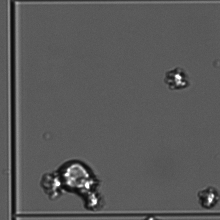Living Cell: (51, 160, 103, 198), (162, 64, 191, 95), (197, 183, 219, 209)
